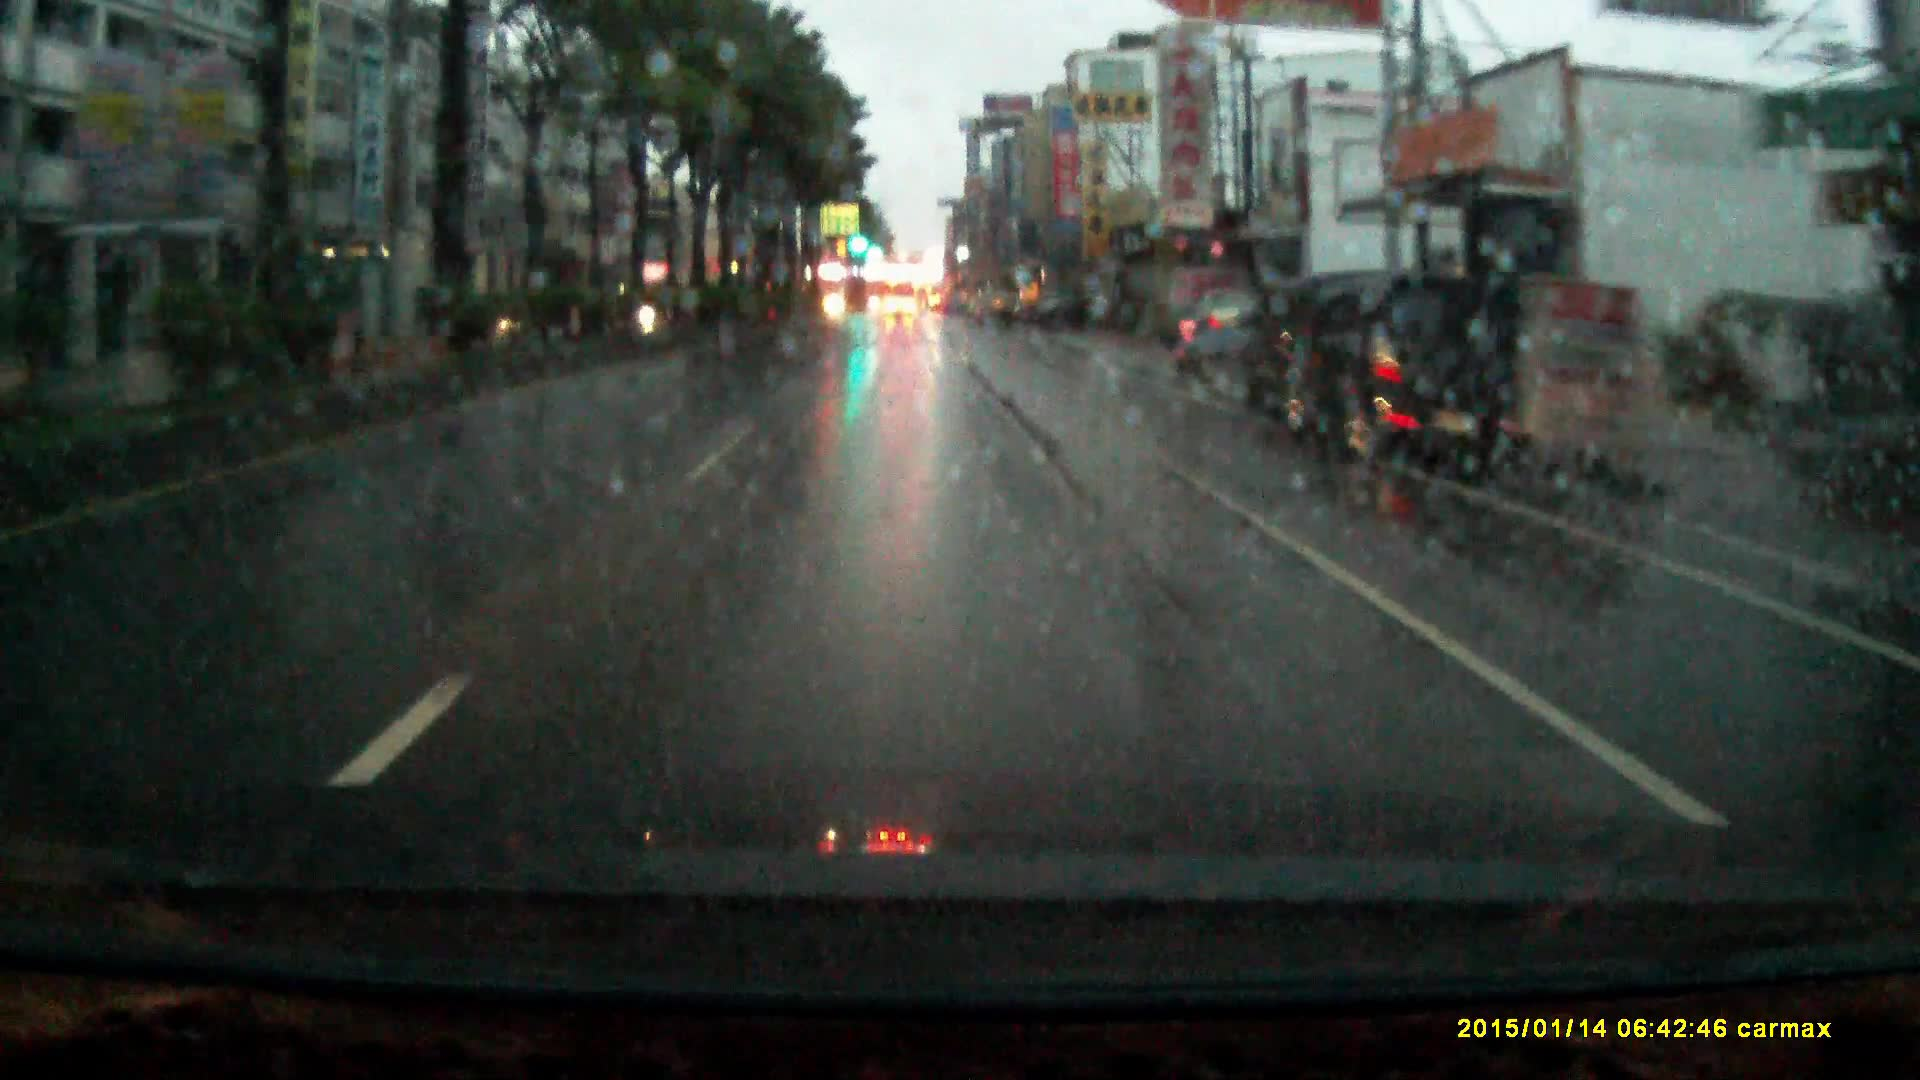vehicle: (1269, 269, 1535, 477), (1222, 265, 1389, 429), (1175, 298, 1261, 378), (975, 284, 1021, 326), (884, 294, 918, 320)
